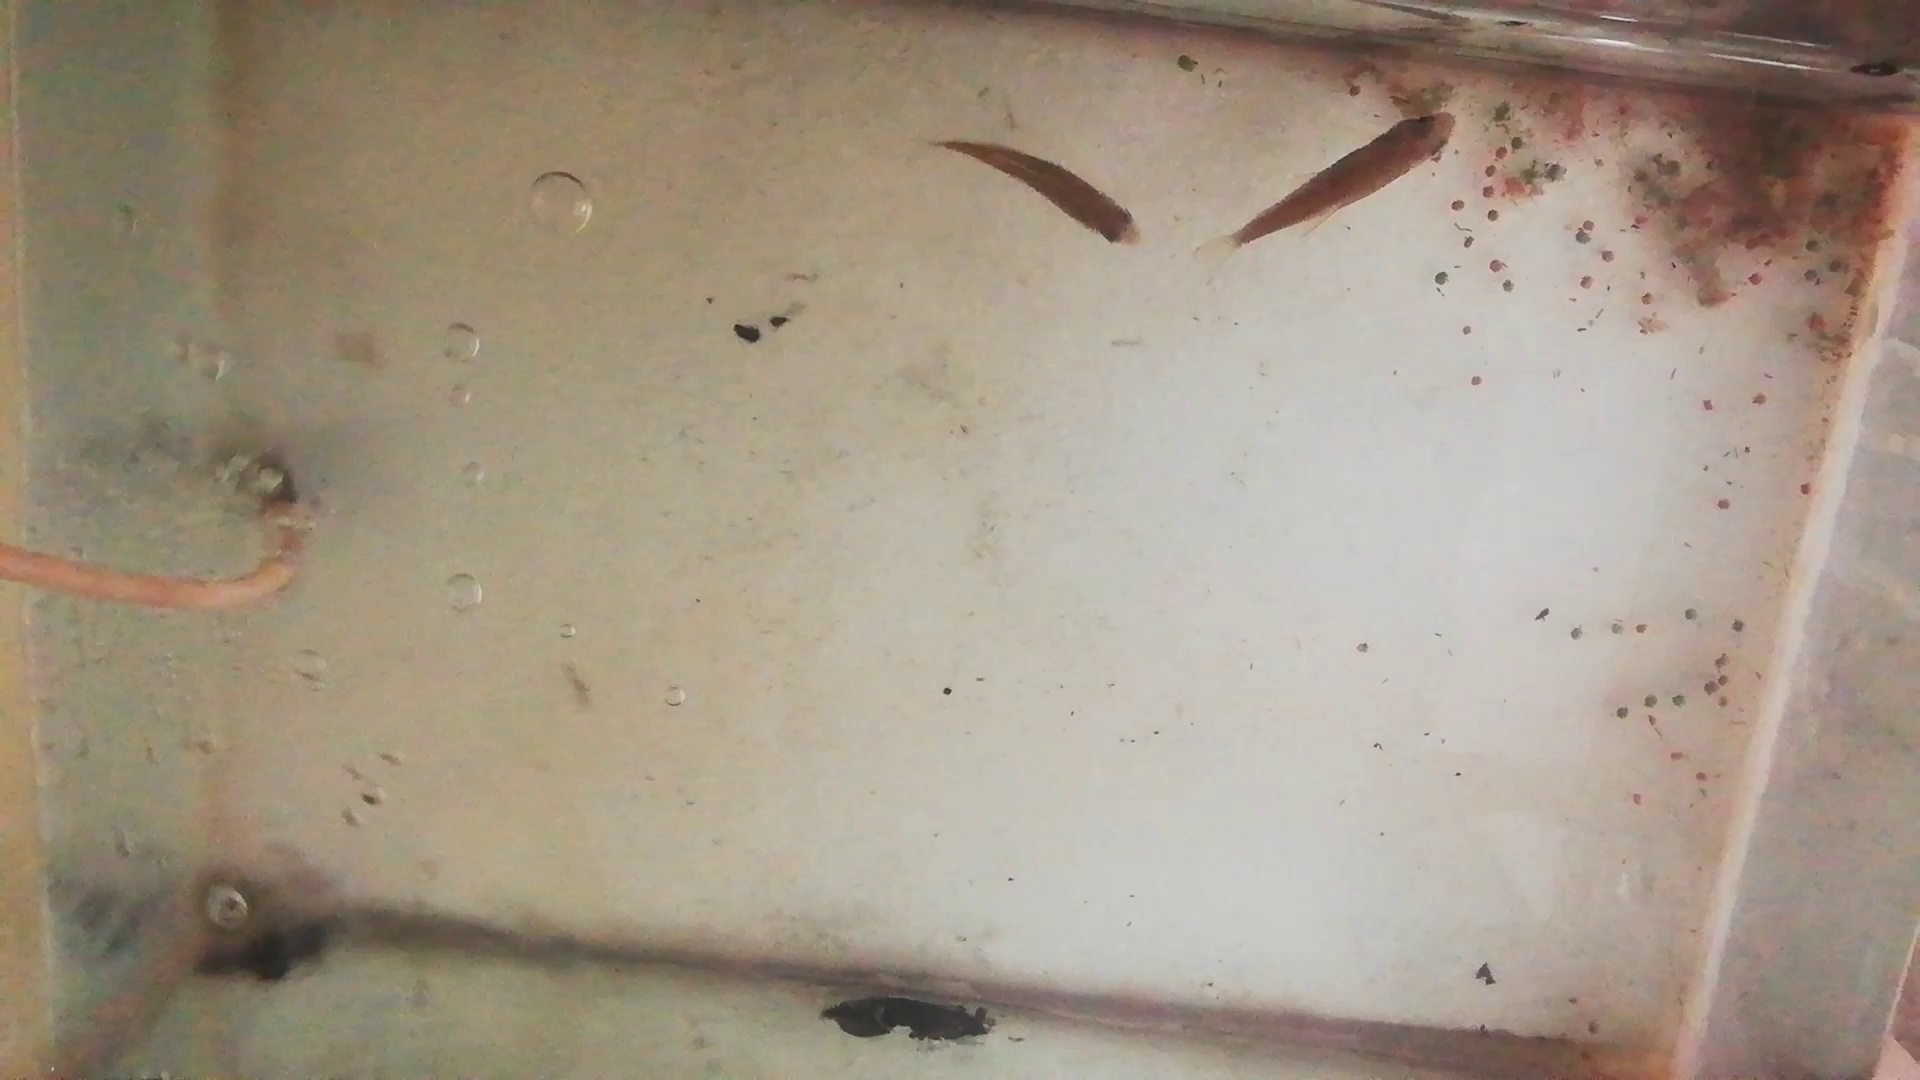fish: (1234, 113, 1455, 247), (931, 135, 1143, 249)
